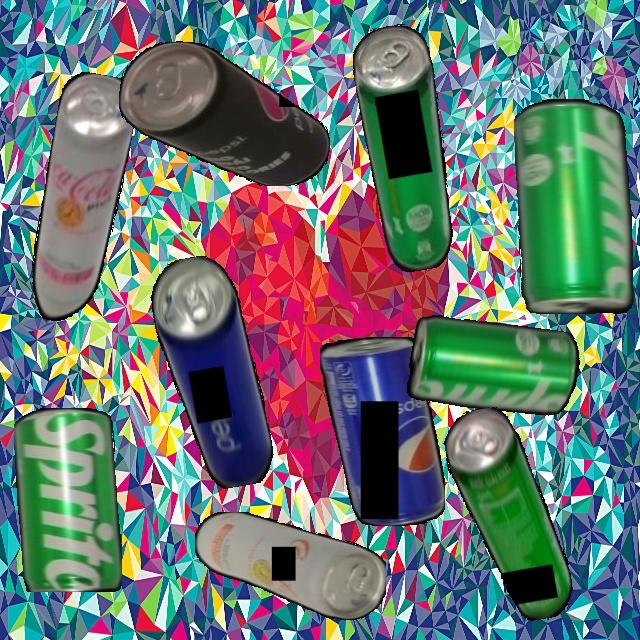debris: (145, 250, 278, 495), (439, 399, 577, 630), (22, 69, 141, 328), (119, 40, 330, 186), (347, 20, 467, 275), (514, 98, 634, 314), (319, 337, 445, 526), (404, 307, 584, 426), (194, 512, 386, 620), (14, 407, 122, 592)
